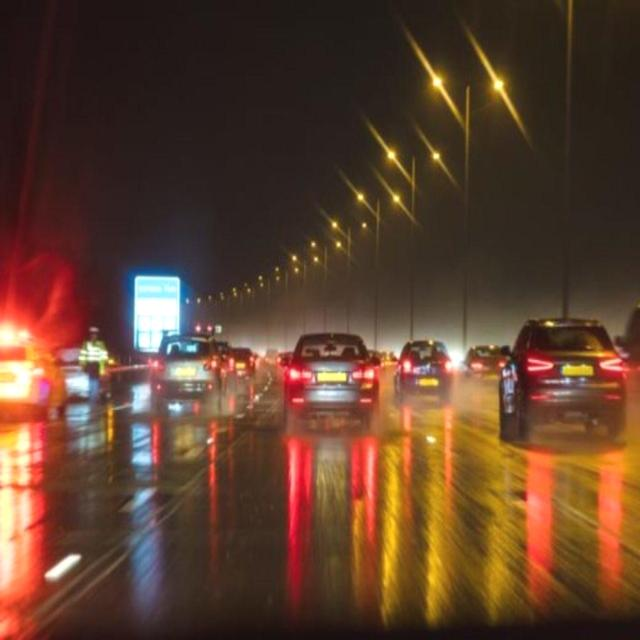Car: (505, 295, 624, 452), (282, 331, 380, 414), (2, 332, 69, 422), (150, 333, 225, 403), (392, 338, 456, 402), (59, 346, 115, 402), (614, 302, 640, 372), (465, 344, 513, 378), (154, 332, 190, 374), (226, 347, 256, 379), (376, 350, 398, 366), (277, 351, 294, 368), (264, 347, 280, 364), (368, 350, 384, 365)
